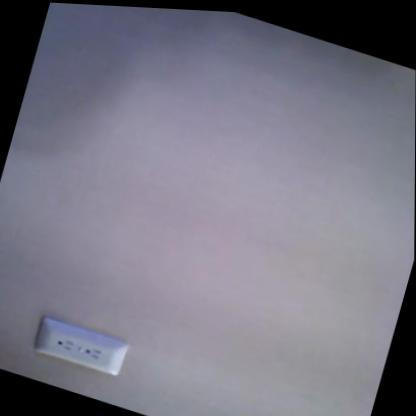OUTLET: (32, 315, 129, 377)
